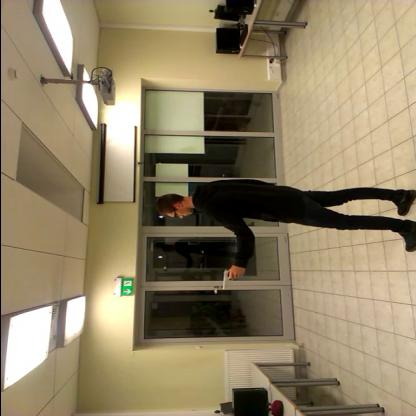Pistol: (212, 262, 252, 294)
